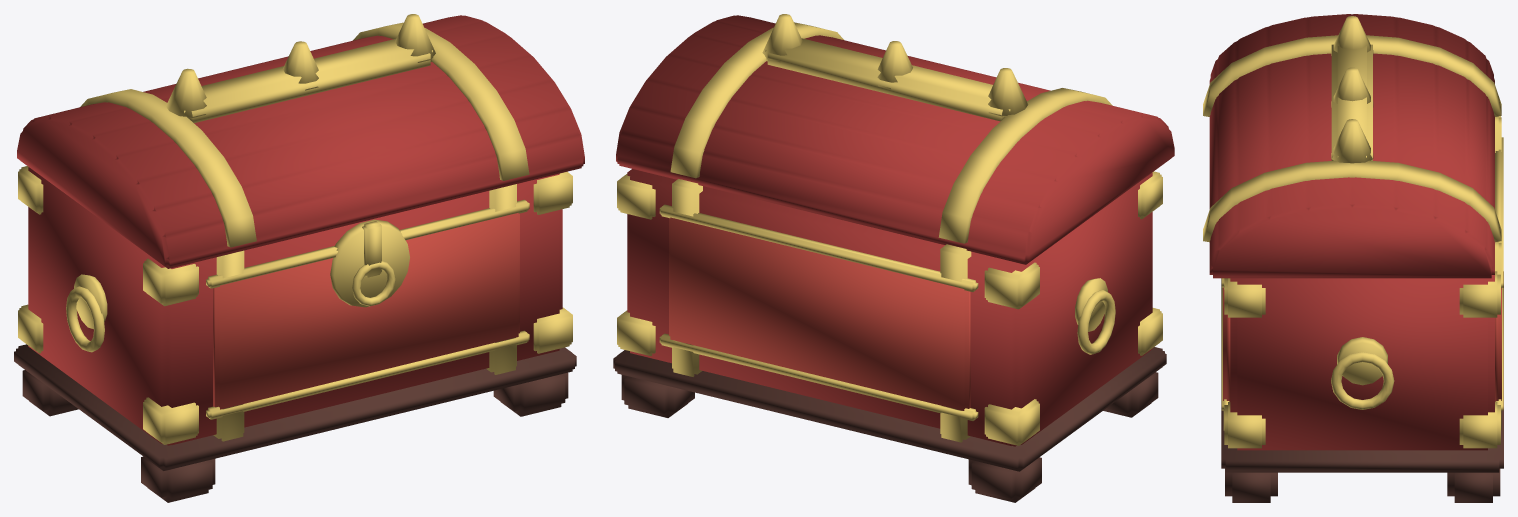
File: DragonChest.glb
The picture shows the model from 3 angles, left to right: view 1: azimuth 30°, elevation 25°; view 2: azimuth 150°, elevation 25°; view 3: azimuth 270°, elevation 25°; orthographic projection. The views are drawn at different scales.
Parts seen in each view (by area): view 1: VaultedLid, ChestBody, FrontPanel_-1, BaseApron, DragonCrestBar, LidBand_-0.50, LidBand_0.50, LockPlate, GoldFrameTop_-1, GoldFrameBot_-1, Foot_-1_-1, Foot_1_-1 (+16 smaller); view 2: VaultedLid, ChestBody, FrontPanel_1, BaseApron, DragonCrestBar, LidBand_-0.50, LidBand_0.50, GoldFrameTop_1, GoldFrameBot_1, Foot_-1_1, Foot_1_1, Corner_-1_1_0.36 (+13 smaller); view 3: VaultedLid, ChestBody, BaseApron, LidBand_0.50, LidBand_-0.50, DragonCrestBar, SideRing_1, Foot_1_1, Foot_1_-1, Corner_1_-1_-0.36, Corner_1_1_0.36, Corner_1_1_-0.36 (+8 smaller).
Boxes of the visible parts, x1,y1,x2,y2 form: VaultedLid: (17, 15, 584, 268); ChestBody: (28, 167, 562, 445); FrontPanel_-1: (213, 213, 519, 409); BaseApron: (14, 344, 576, 470); DragonCrestBar: (184, 38, 432, 122); LidBand_-0.50: (80, 89, 256, 247); LidBand_0.50: (353, 22, 529, 180); LockPlate: (330, 219, 409, 307); GoldFrameTop_-1: (206, 199, 529, 288); GoldFrameBot_-1: (206, 330, 529, 419); Foot_-1_-1: (141, 456, 215, 502); Foot_1_-1: (493, 372, 568, 416); VaultedLid: (616, 15, 1174, 264); ChestBody: (627, 169, 1152, 446); FrontPanel_1: (669, 217, 970, 410); BaseApron: (613, 347, 1166, 471); DragonCrestBar: (765, 38, 1010, 121); LidBand_-0.50: (938, 88, 1112, 243); LidBand_0.50: (670, 22, 843, 178); GoldFrameTop_1: (659, 204, 978, 291); GoldFrameBot_1: (659, 333, 978, 420); Foot_-1_1: (968, 457, 1041, 502); Foot_1_1: (621, 375, 694, 417); Corner_-1_1_0.36: (984, 262, 1039, 309); VaultedLid: (1209, 14, 1494, 278); ChestBody: (1230, 275, 1494, 450); BaseApron: (1221, 271, 1503, 472); LidBand_0.50: (1203, 160, 1501, 242); LidBand_-0.50: (1203, 35, 1501, 116); DragonCrestBar: (1331, 44, 1372, 160); SideRing_1: (1331, 352, 1394, 409); Foot_1_1: (1447, 468, 1500, 502); Foot_1_-1: (1225, 468, 1277, 502); Corner_1_-1_-0.36: (1224, 402, 1265, 448); Corner_1_1_0.36: (1459, 271, 1500, 317); Corner_1_1_-0.36: (1459, 402, 1500, 448).
Size of the model in its own units: 1.59 by 1.29 by 1.02.
